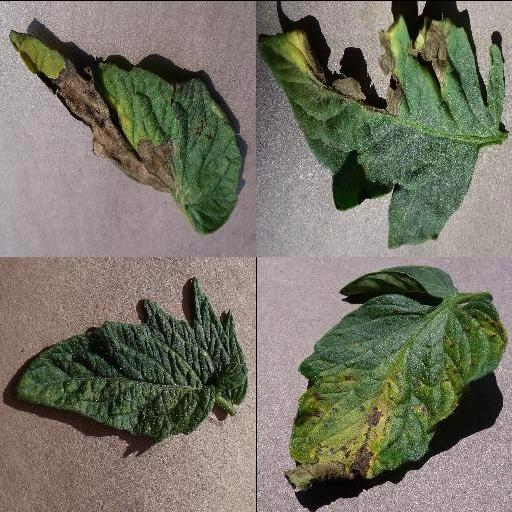Early Blight: (260, 17, 506, 246)
Late Blight: (8, 28, 242, 232)
Septoria: (288, 294, 506, 492)
Spider Mites: (16, 276, 248, 438)
